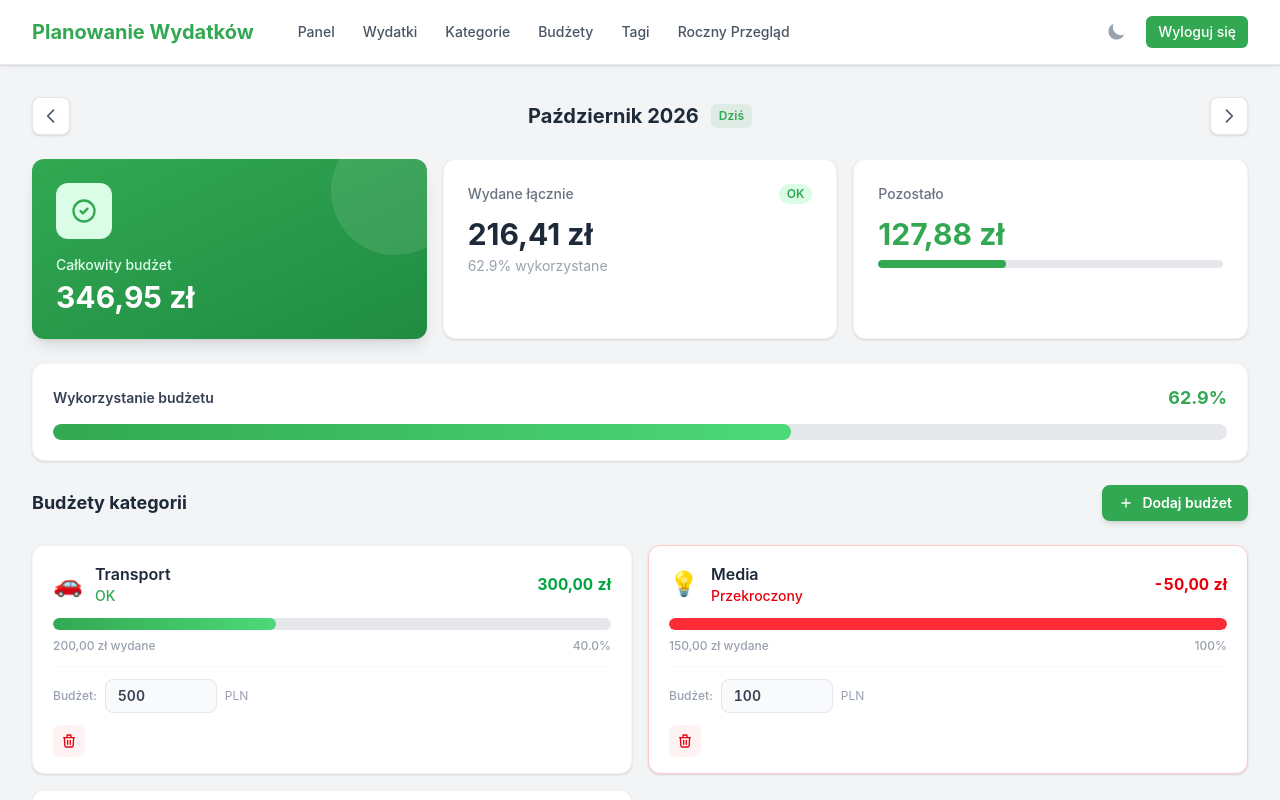
Scenario: month navigation › the previous-month button moves back one month and refetches
The image size is (1280, 800).
Expected: the text "Transport" is shown, [95,564,170,584]
Click the button named "poprzedni miesiąc" at (51,116), box [32,97,70,135]
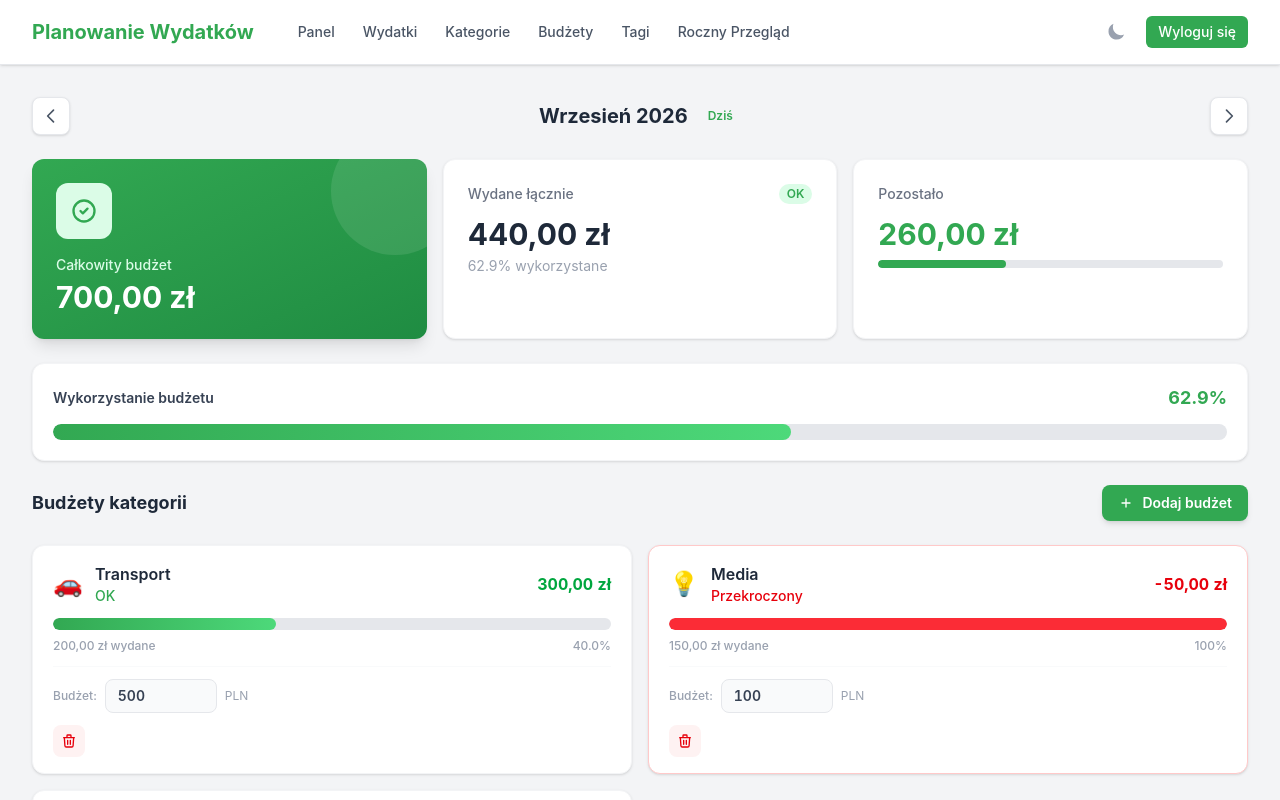
Result: the heading "Wrzesień 2026" is shown at [539,102,688,130]
